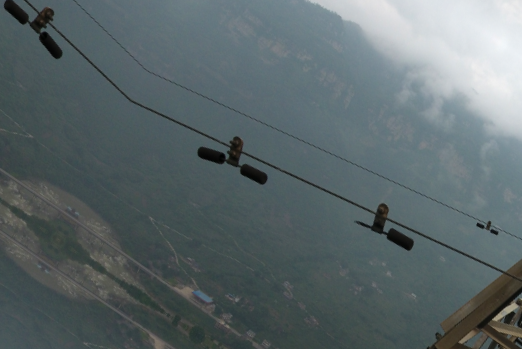damper: (195, 135, 269, 185), (3, 1, 65, 60), (475, 218, 499, 236)
damper_defect: (353, 201, 415, 253)
